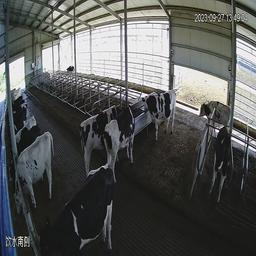cow: (29, 162, 113, 255), (77, 103, 126, 183), (14, 130, 55, 219), (103, 101, 139, 186), (143, 89, 179, 140), (208, 126, 231, 204), (188, 94, 224, 142), (63, 62, 74, 79)
